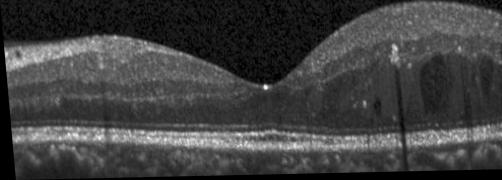intraretinal_cyst: (419, 56, 451, 117), (478, 57, 492, 106), (372, 100, 379, 119), (15, 52, 19, 57), (501, 47, 502, 64)
